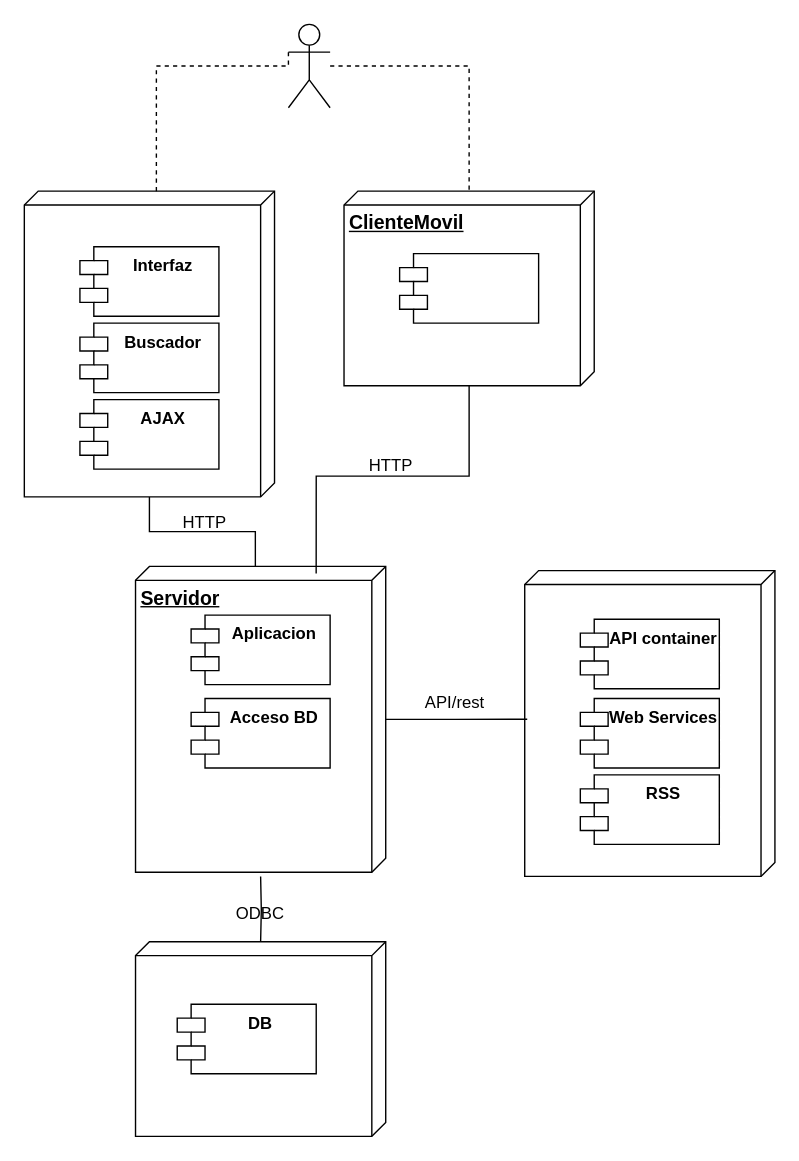
The diagram is 799 pixels wide and 1161 high, and some of its shapes have lost their labels. The shapes that lost their labels are listed below. From the top down, each one's box as (x1, y1, x2, y2) in pixels, then its label:
(287, 23, 330, 108): User
(398, 252, 539, 323): InterfazMovil
(23, 190, 275, 497): Cliente
(523, 569, 775, 876): Servicio Aplicaciones
(134, 940, 386, 1136): Bases de datos
